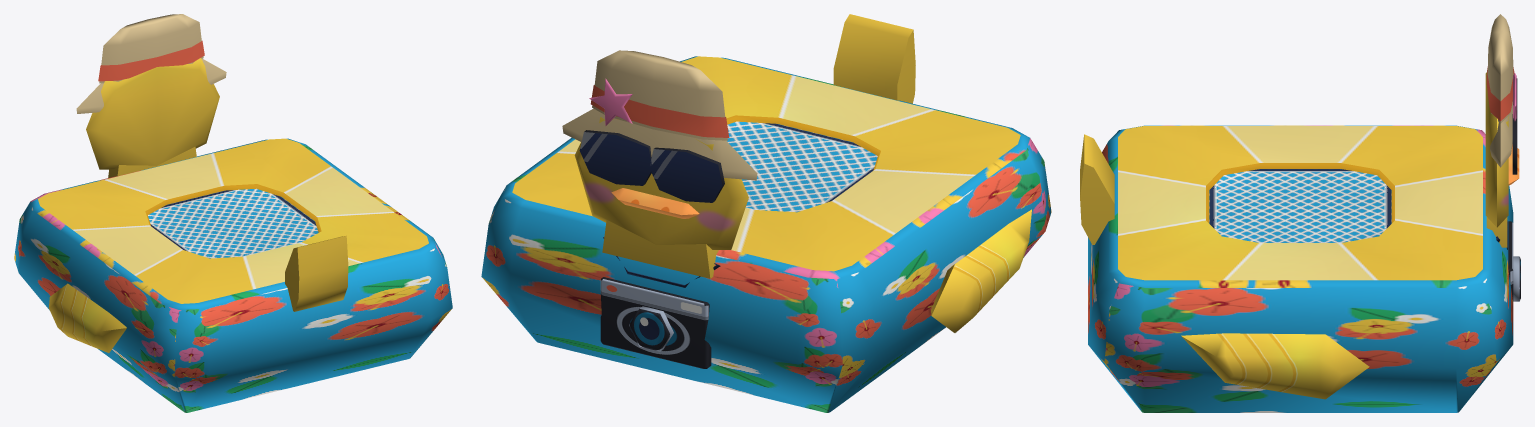
File: pool_duck_ring_tourist_lod1.glb
3 renders of one model, left to right at view 1: azimuth 30°, elevation 25°; view 2: azimuth 150°, elevation 25°; view 3: azimuth 270°, elevation 25°, orthographic. The views are drawn at different scales.
Visible parts, largest first — view 1: pool_duck_ring_tourist_LOD1; view 2: pool_duck_ring_tourist_LOD1; view 3: pool_duck_ring_tourist_LOD1.
Boxes of the visible parts, x1,y1,x2,y2 form: pool_duck_ring_tourist_LOD1: (14,14,452,412); pool_duck_ring_tourist_LOD1: (481,14,1051,412); pool_duck_ring_tourist_LOD1: (1080,14,1520,412).
Bounding box in the file's own units: 15 × 11 × 14.
Materials: 1 (1 with a texture image).
